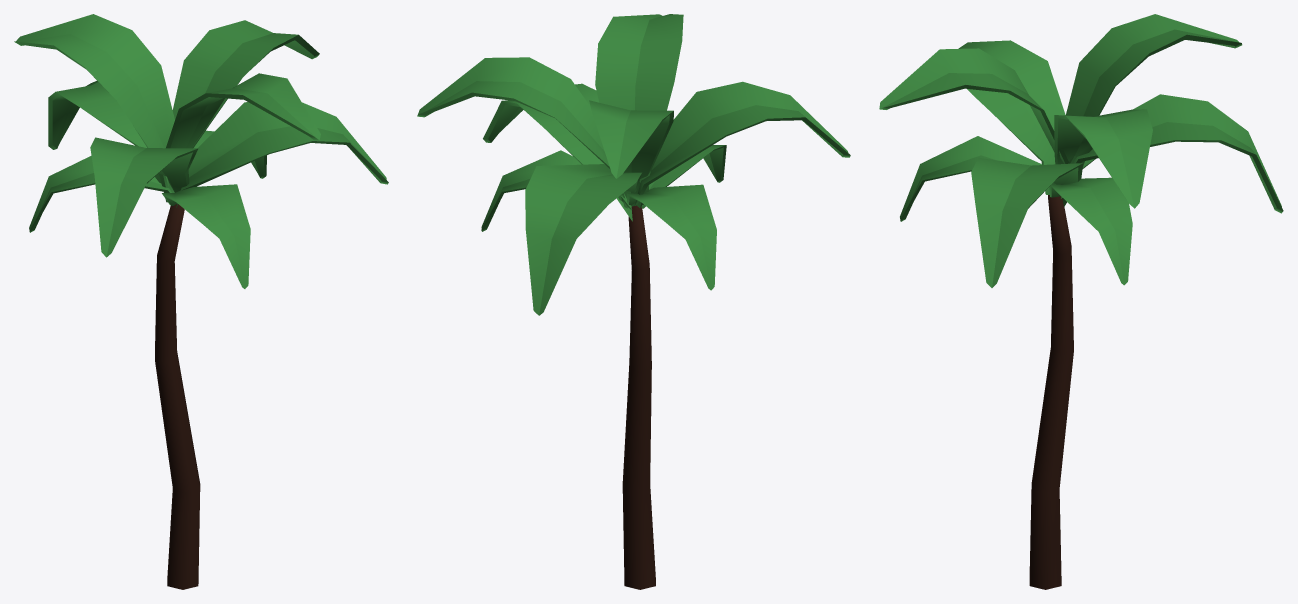
Rendered from Palmera.obj.
3 renders of one model, left to right at view 1: azimuth 30°, elevation 25°; view 2: azimuth 150°, elevation 25°; view 3: azimuth 270°, elevation 25°, orthographic. The views are drawn at different scales.
Parts seen in each view (by area): view 1: PalmTree01_Mesh.011_Green.001, PalmTree01_Mesh.011_Brown; view 2: PalmTree01_Mesh.011_Green.001, PalmTree01_Mesh.011_Brown; view 3: PalmTree01_Mesh.011_Green.001, PalmTree01_Mesh.011_Brown.
Part boxes in pixels (x1,y1,x2,y2): PalmTree01_Mesh.011_Green.001: (14,14,388,288); PalmTree01_Mesh.011_Brown: (155,204,200,589); PalmTree01_Mesh.011_Green.001: (417,14,850,315); PalmTree01_Mesh.011_Brown: (622,205,655,589); PalmTree01_Mesh.011_Green.001: (879,14,1283,287); PalmTree01_Mesh.011_Brown: (1029,195,1073,589).
Bounding box in the file's own units: 3.87 × 5.95 × 4.06.
